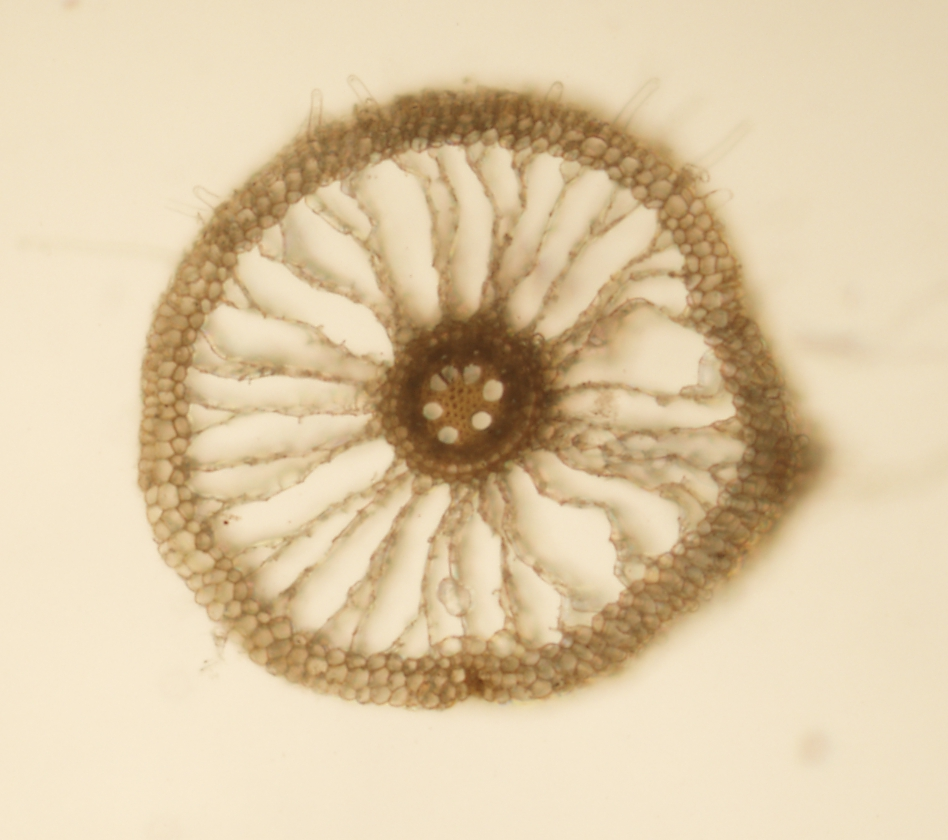lm: (429, 365, 459, 391), (483, 379, 503, 402), (462, 363, 481, 385), (471, 411, 492, 430), (437, 426, 458, 444), (423, 402, 443, 420)
